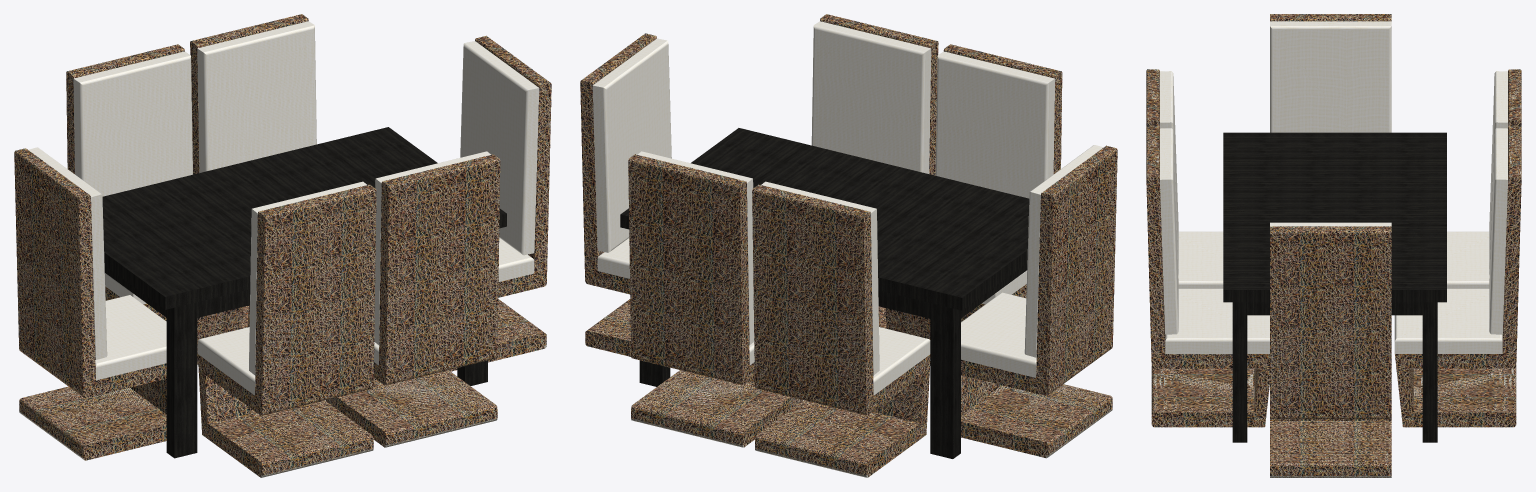
Rendered from dining furniture 11.dae.
The picture shows the model from 3 angles, left to right: view 1: azimuth 30°, elevation 25°; view 2: azimuth 150°, elevation 25°; view 3: azimuth 270°, elevation 25°; orthographic projection. The views are drawn at different scales.
Visible parts, largest first — view 1: Component_4 (×6), Component_5 (×6), group_0 (×3), group_6, group_8, group_2; view 2: Component_4 (×6), Component_5 (×6), group_0 (×3), group_6, group_10, group_2; view 3: Component_4 (×6), group_0 (×3), Component_5 (×6), group_12, group_4, group_8, group_10.
Boxes of the visible parts, bbox=[...] form: Component_4 (×6): bbox=[14, 14, 551, 477]; Component_5 (×6): bbox=[28, 21, 539, 375]; group_0 (×3): bbox=[102, 127, 506, 458]; group_6: bbox=[95, 295, 166, 380]; group_8: bbox=[197, 327, 255, 395]; group_2: bbox=[498, 238, 534, 281]; Component_4 (×6): bbox=[580, 14, 1117, 477]; Component_5 (×6): bbox=[592, 21, 1103, 375]; group_0 (×3): bbox=[620, 128, 1029, 458]; group_6: bbox=[961, 292, 1036, 377]; group_10: bbox=[873, 327, 930, 395]; group_2: bbox=[597, 238, 629, 278]; Component_4 (×6): bbox=[1146, 14, 1521, 475]; group_0 (×3): bbox=[1223, 132, 1446, 442]; Component_5 (×6): bbox=[1160, 21, 1507, 334]; group_12: bbox=[1394, 288, 1502, 353]; group_4: bbox=[1165, 288, 1269, 353]; group_8: bbox=[1178, 231, 1223, 288]; group_10: bbox=[1447, 231, 1489, 288].
Size of the model in its own units: 75.19 by 54.72 by 40.16.
Materials: 5 (5 with a texture image).
